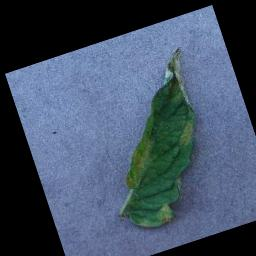Leaf_Mold: (113, 133, 165, 190), (135, 200, 175, 231), (171, 119, 200, 148)
